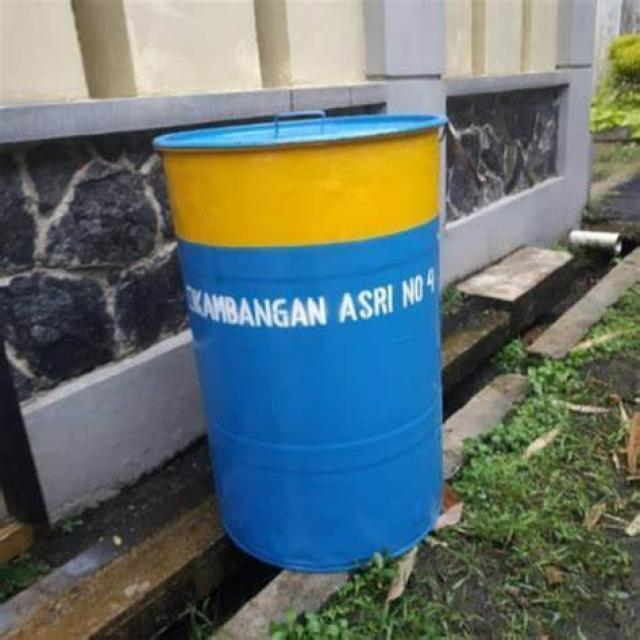garbage container: (123, 103, 468, 582)
